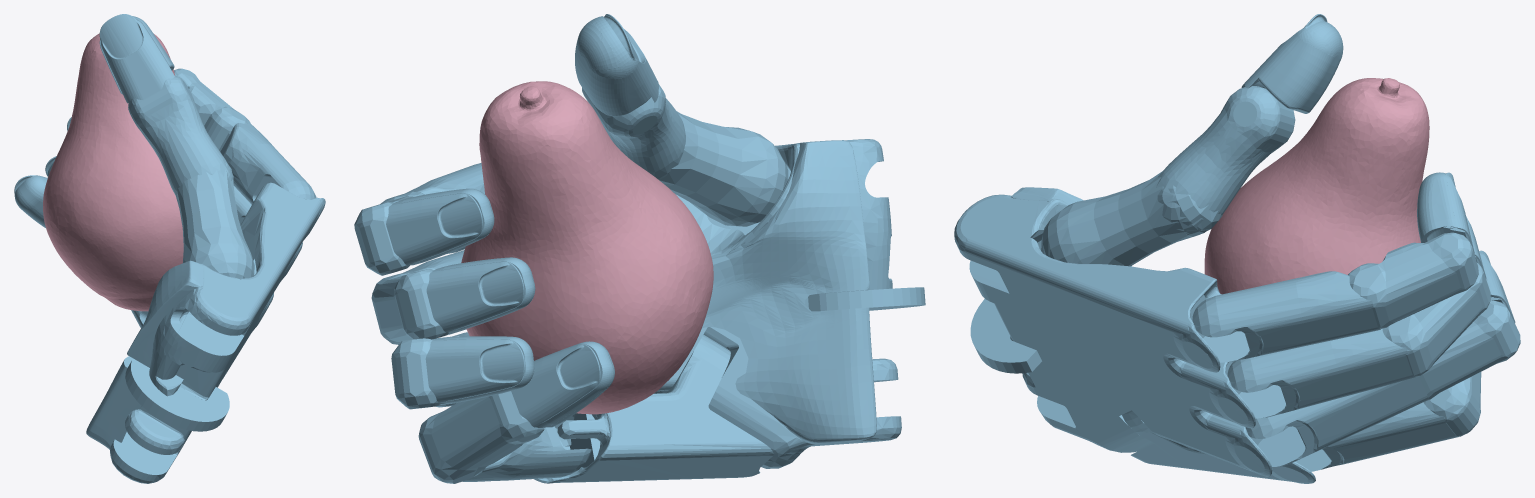
3 views of the same model, side by side, from view 1: azimuth 30°, elevation 25°; view 2: azimuth 150°, elevation 25°; view 3: azimuth 270°, elevation 25° (orthographic). The views are drawn at different scales.
Visible parts, largest first — view 1: world; view 2: world; view 3: world.
Boxes of the visible parts, x1,y1,x2,y2 form: world: (14,14,325,483); world: (354,14,925,483); world: (954,14,1520,483).
Size of the model in its own units: 0.1124 by 0.1495 by 0.1654.
